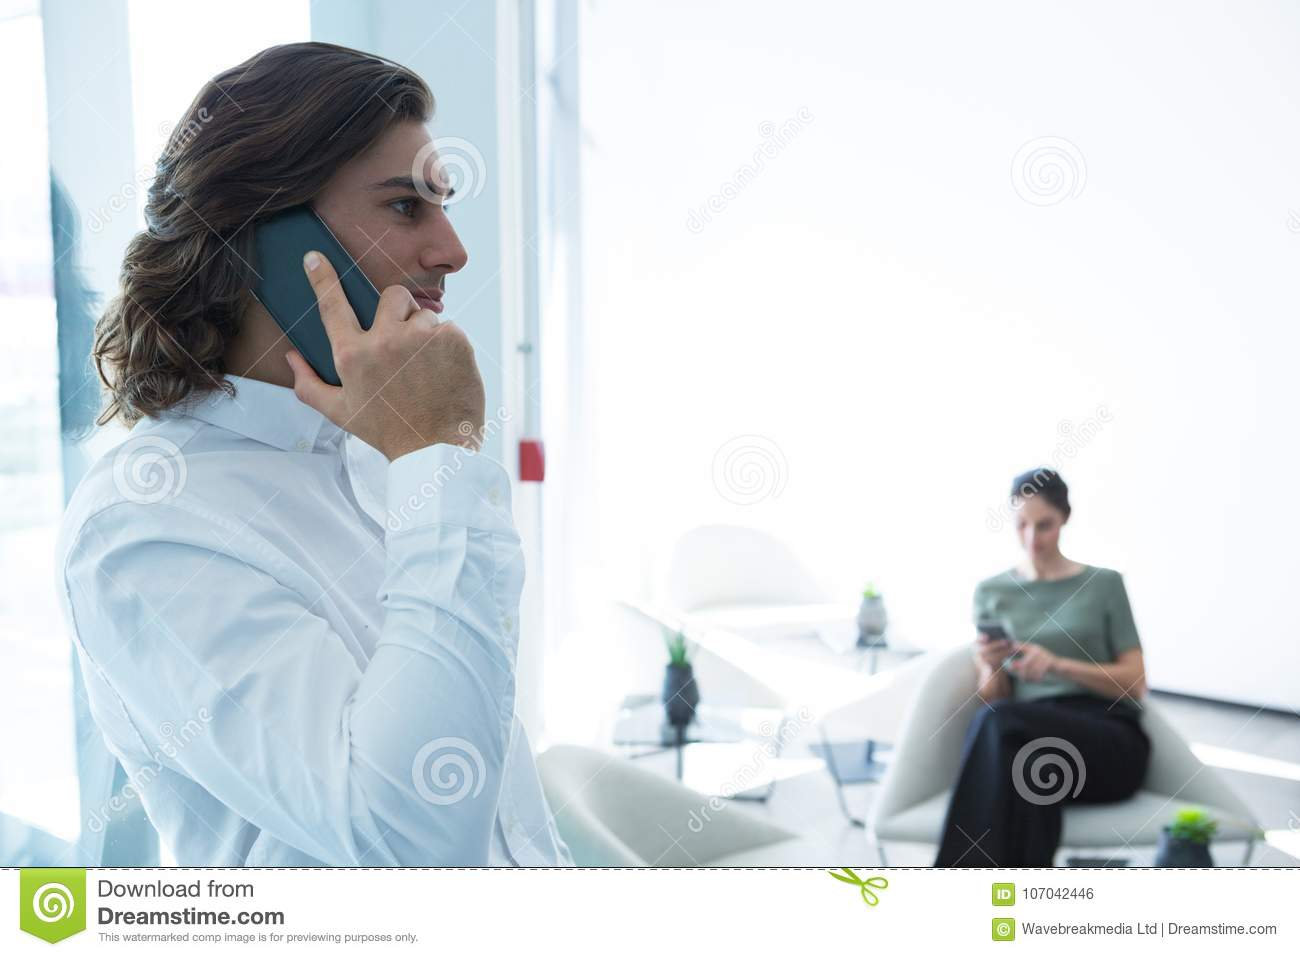phone: (244, 200, 396, 393)
talk: (230, 159, 478, 461)
